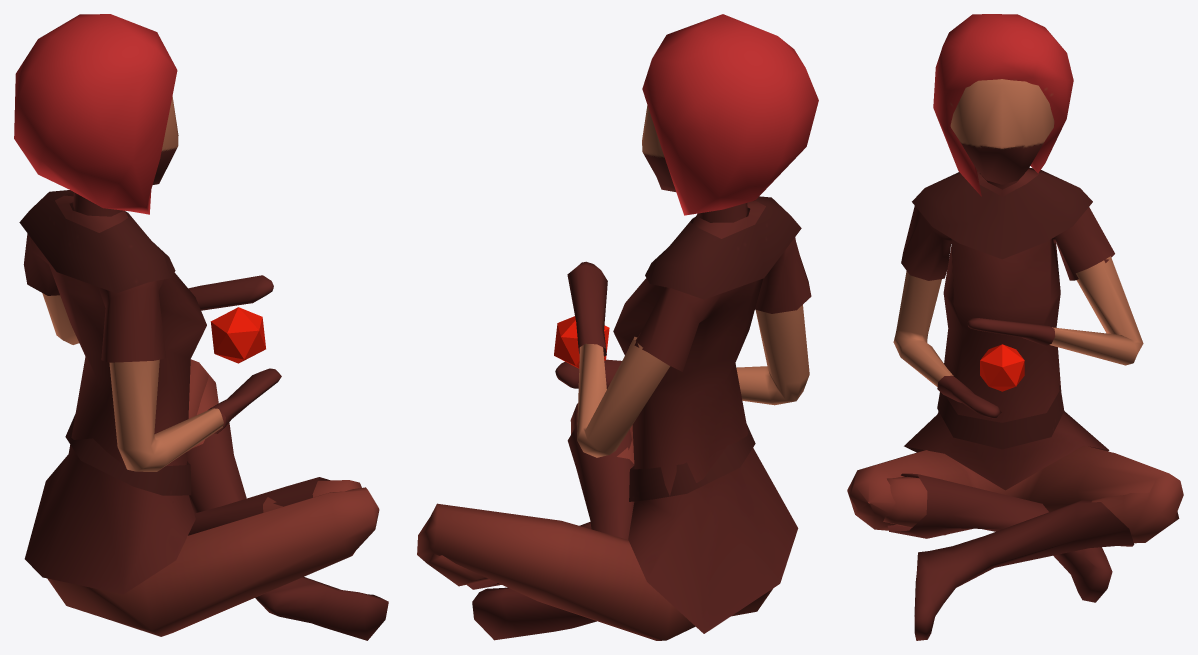
Rendered from YuniPose1.fbx.
The picture shows the model from 3 angles, left to right: view 1: azimuth 30°, elevation 25°; view 2: azimuth 150°, elevation 25°; view 3: azimuth 270°, elevation 25°; orthographic projection. The views are drawn at different scales.
Parts seen in each view (by area): view 1: yuni; view 2: yuni; view 3: yuni.
Boxes of the visible parts, x1=… form: yuni: x1=14, y1=14, x2=388, y2=640; yuni: x1=417, y1=14, x2=818, y2=640; yuni: x1=847, y1=14, x2=1183, y2=640.
Size of the model in its own units: 55.93 by 107 by 61.6.
